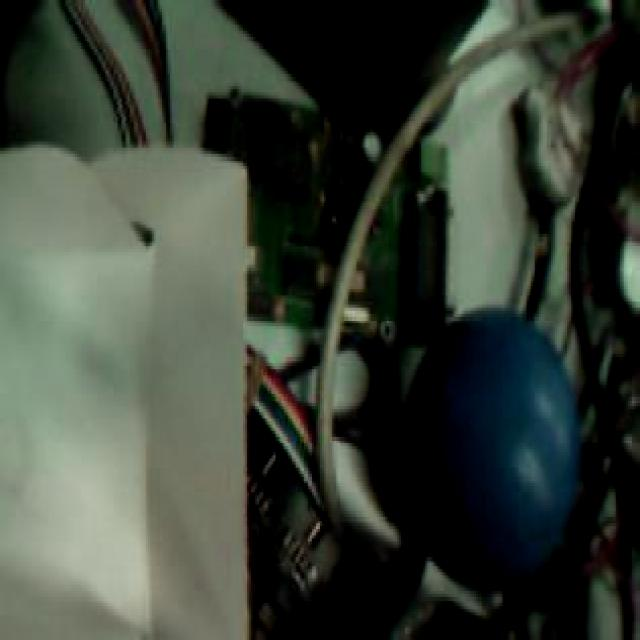BallPurple: (410, 307, 578, 577)
